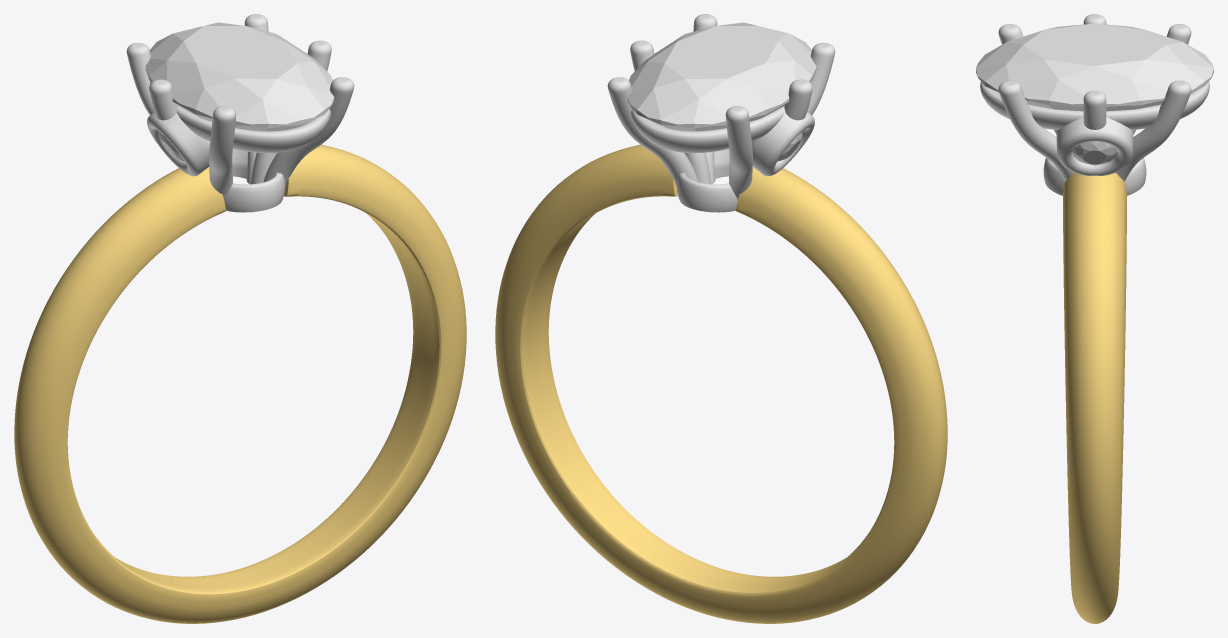
The model's file is Ryan_Sabert_smaller_prongs_blender.glb.
3 views of the same model, side by side, from view 1: azimuth 30°, elevation 25°; view 2: azimuth 150°, elevation 25°; view 3: azimuth 270°, elevation 25° (orthographic).
Visible parts, largest first — view 1: YG shank, diamond.002, PT head; view 2: YG shank, diamond.002, PT head; view 3: YG shank, diamond.002, PT head, diamond.
Boxes of the visible parts, x1,y1,x2,y2 form: YG shank: (14, 144, 466, 623); diamond.002: (145, 22, 334, 131); PT head: (126, 14, 354, 212); YG shank: (495, 144, 947, 623); diamond.002: (627, 22, 816, 131); PT head: (607, 14, 835, 212); YG shank: (1063, 172, 1126, 623); diamond.002: (976, 23, 1213, 111); PT head: (980, 14, 1209, 195); diamond: (1072, 141, 1117, 165).
Bounding box in the file's own units: 22.15 × 26.75 × 10.39.
